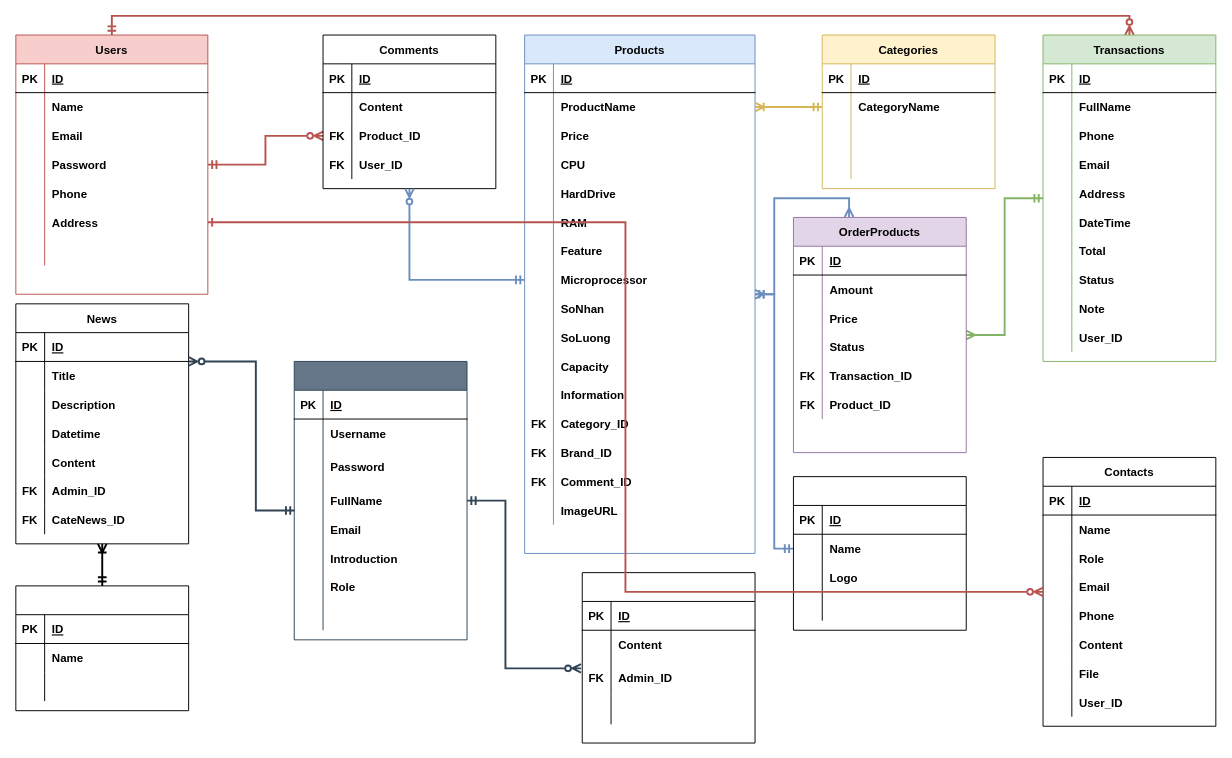
Some shapes in this 1232 by 758 pixel diagram are drawn without their labels. The box of each missing label's shape, as (x1, y1, x2, y2) in pixels:
Admins: (293, 360, 467, 640)
Brands: (792, 476, 966, 630)
CateNews: (15, 585, 189, 711)
Introduces: (581, 572, 755, 743)
